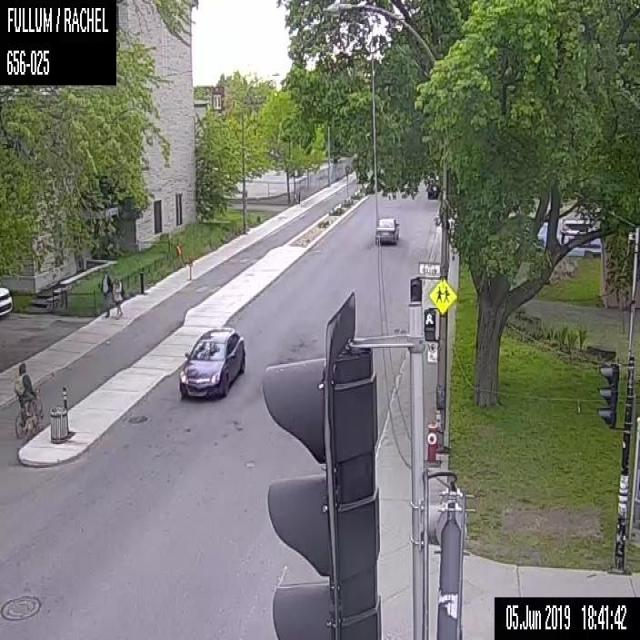cyclist: (13, 362, 42, 438)
pedestrian: (100, 270, 111, 316), (112, 277, 123, 319)
vehicle: (178, 327, 244, 399), (375, 217, 399, 243), (0, 286, 11, 315), (427, 182, 439, 197)
